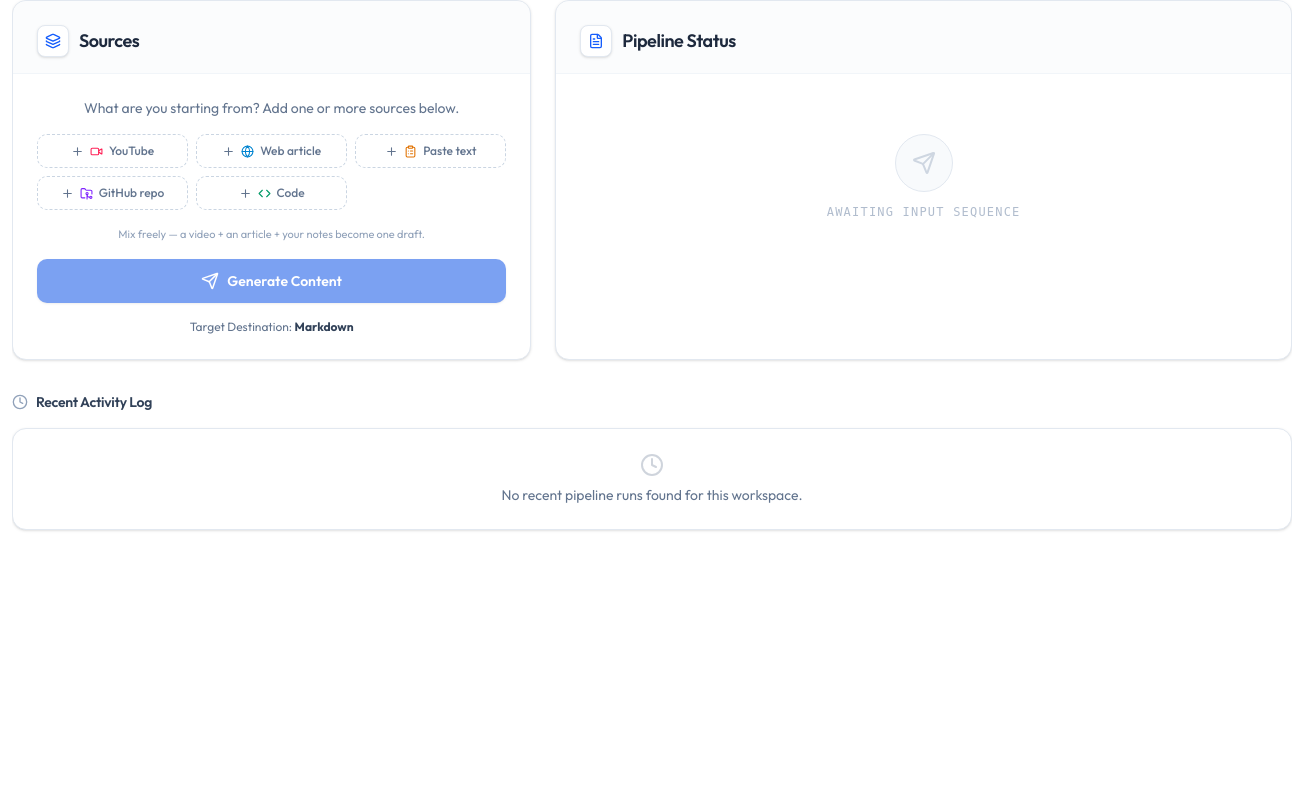
Scenario: PipelineTrigger (Source Composer) › resolves YouTube titles on blur and flags obvious URL typos
Click the button "YouTube" at (113, 151), box [37,134,188,168]
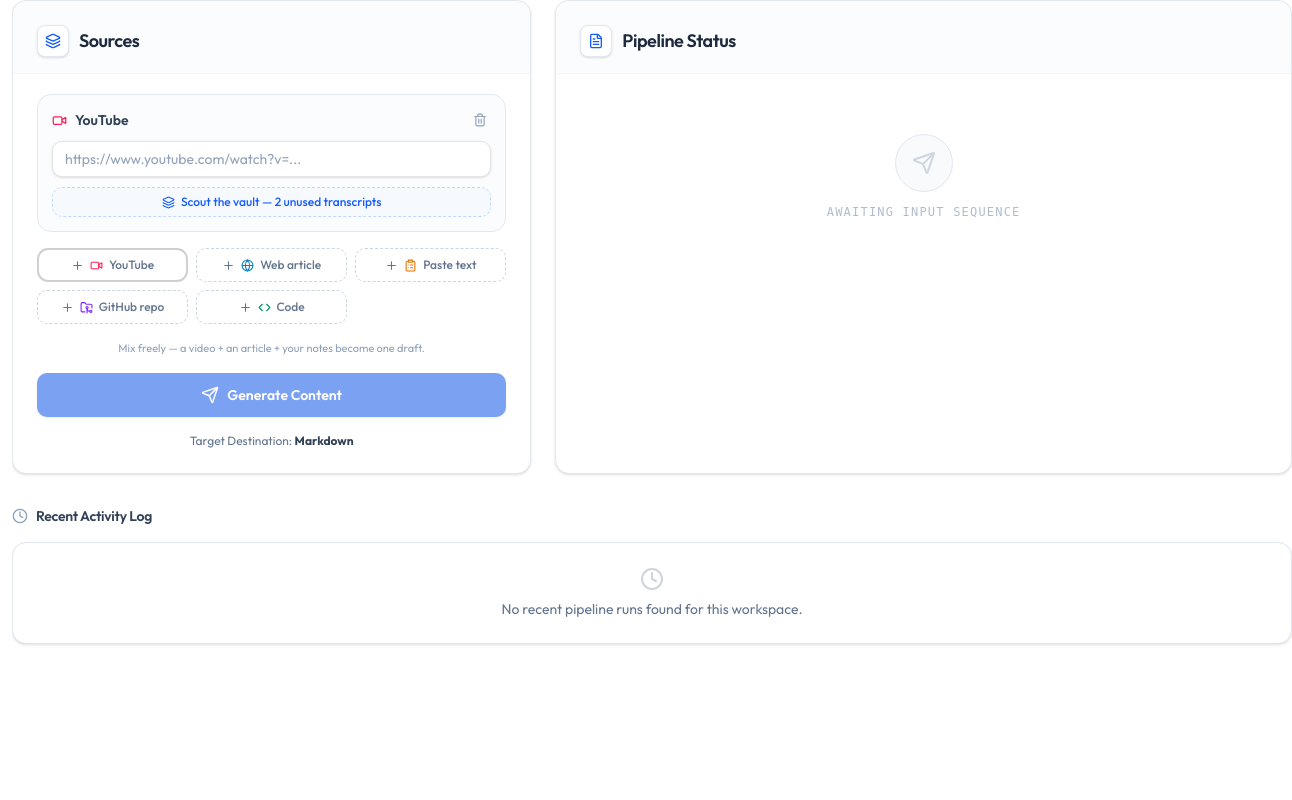
A wrong-host URL is flagged advisorily.
Type "https://vimeo.com/123" into the field with placeholder "https://www.youtube.com/watch?v=..." at (272, 159), box [52,141,491,177]
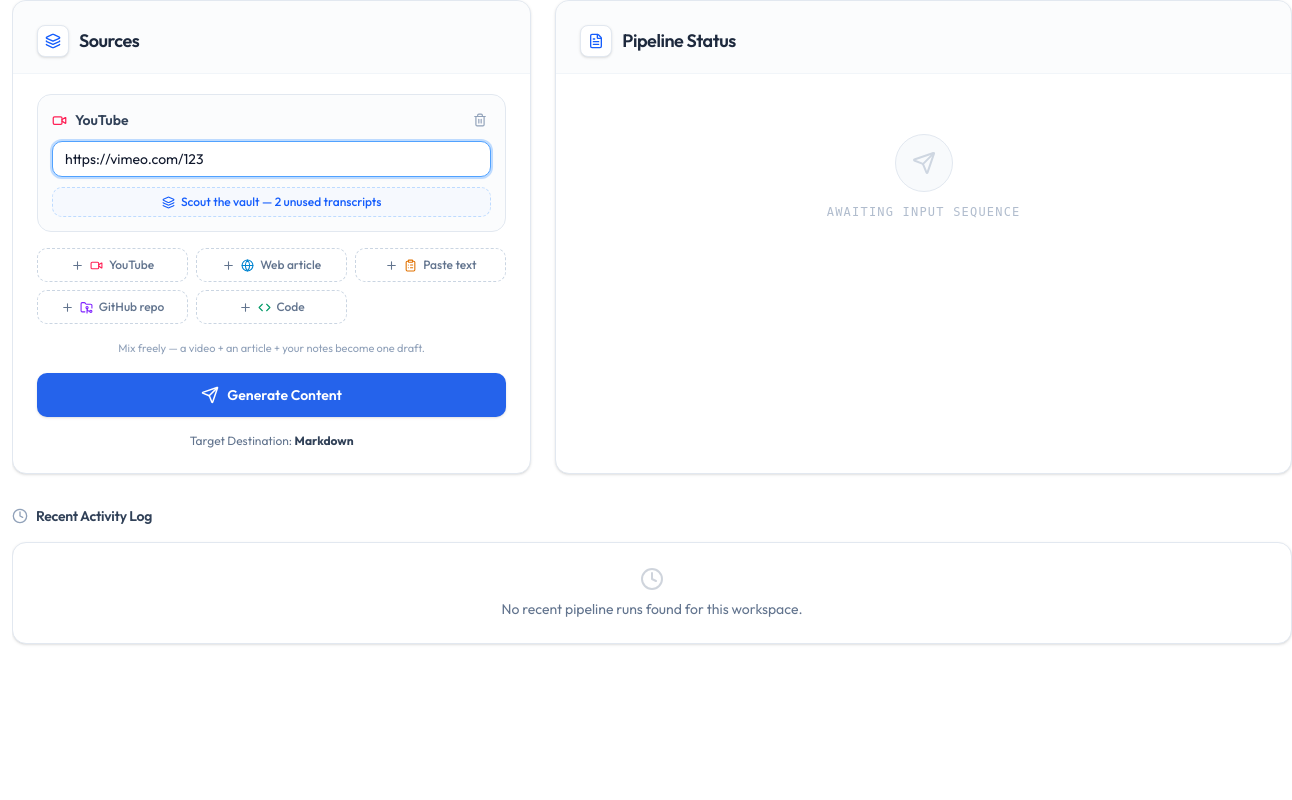
Press Tab
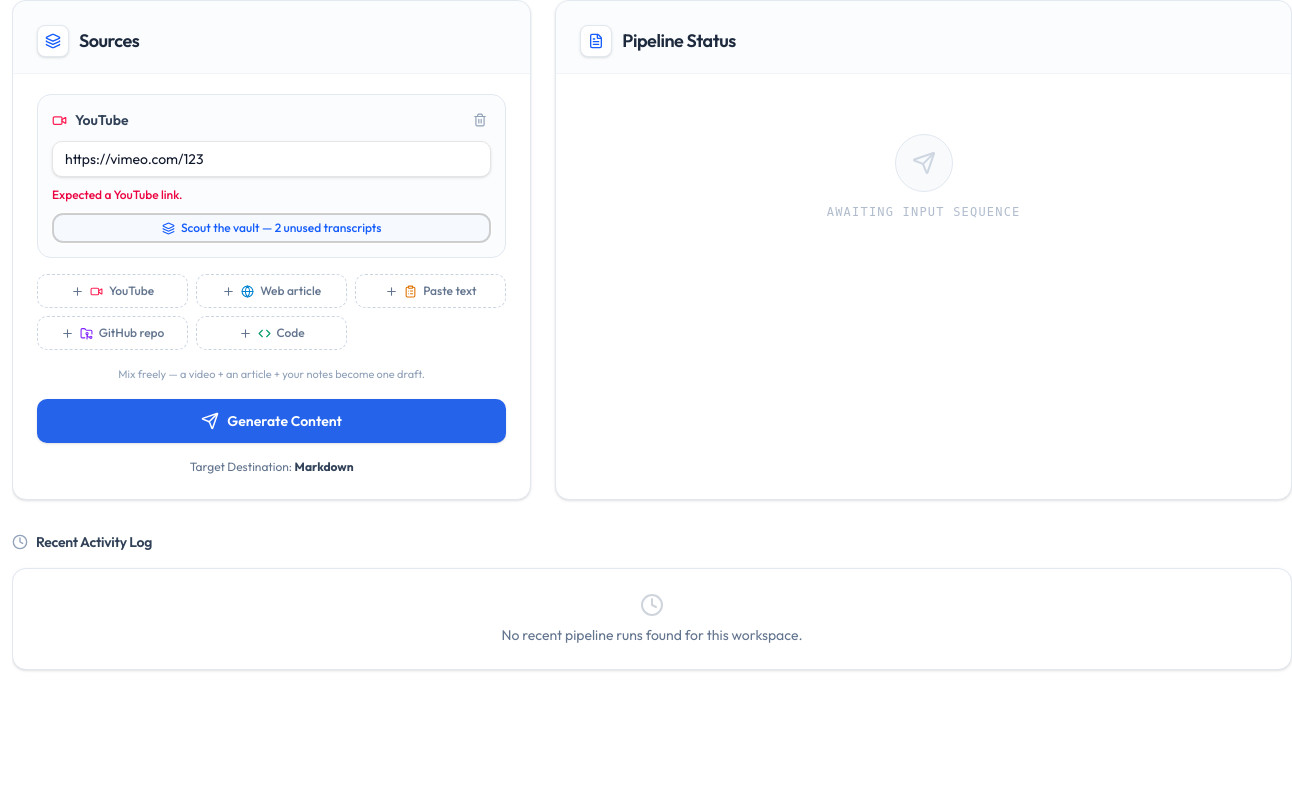
Now the text "Expected a YouTube link." is shown, box [52,187,183,202]
A real YouTube URL clears the error and resolves its title.
Replace the text in the field with placeholder "https://www.youtube.com/watch?v=..." with "https://youtu.be/abc123" at (272, 159), box [52,141,491,177]
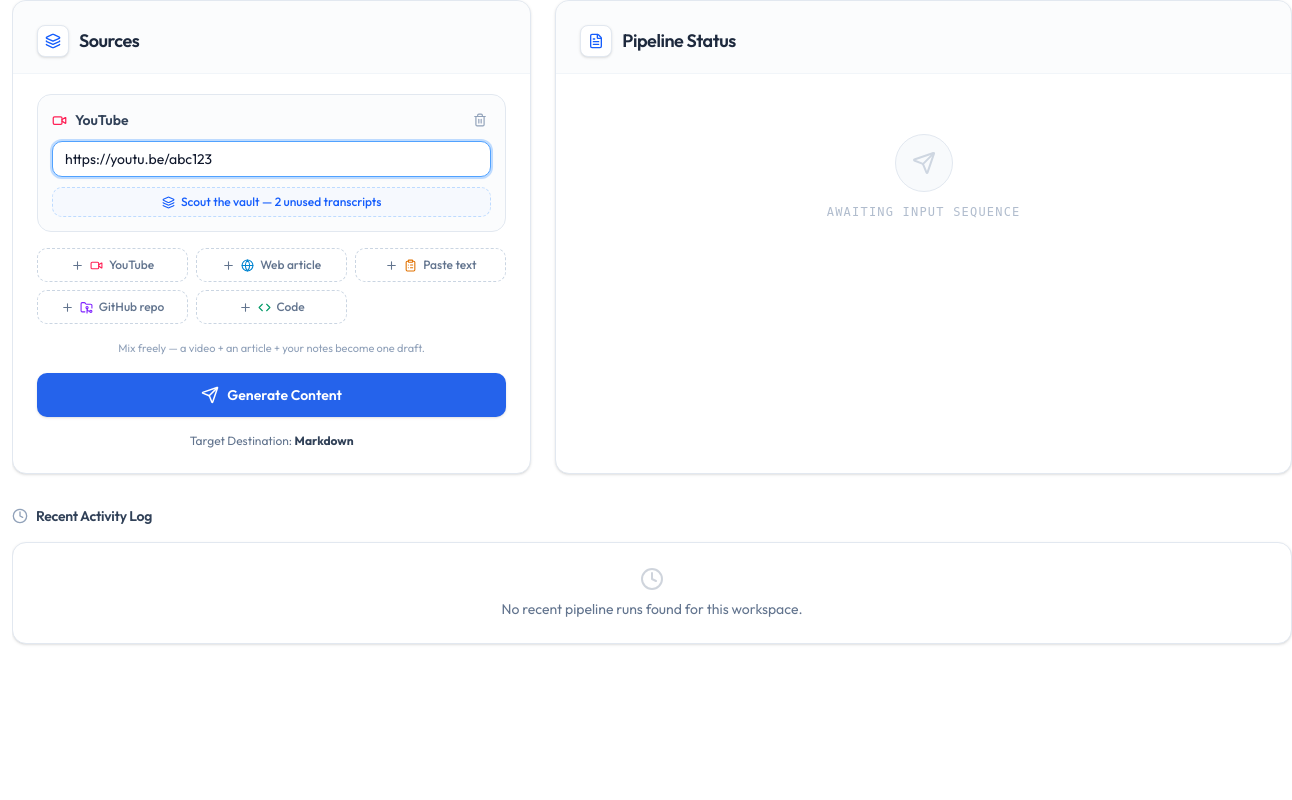
Press Tab
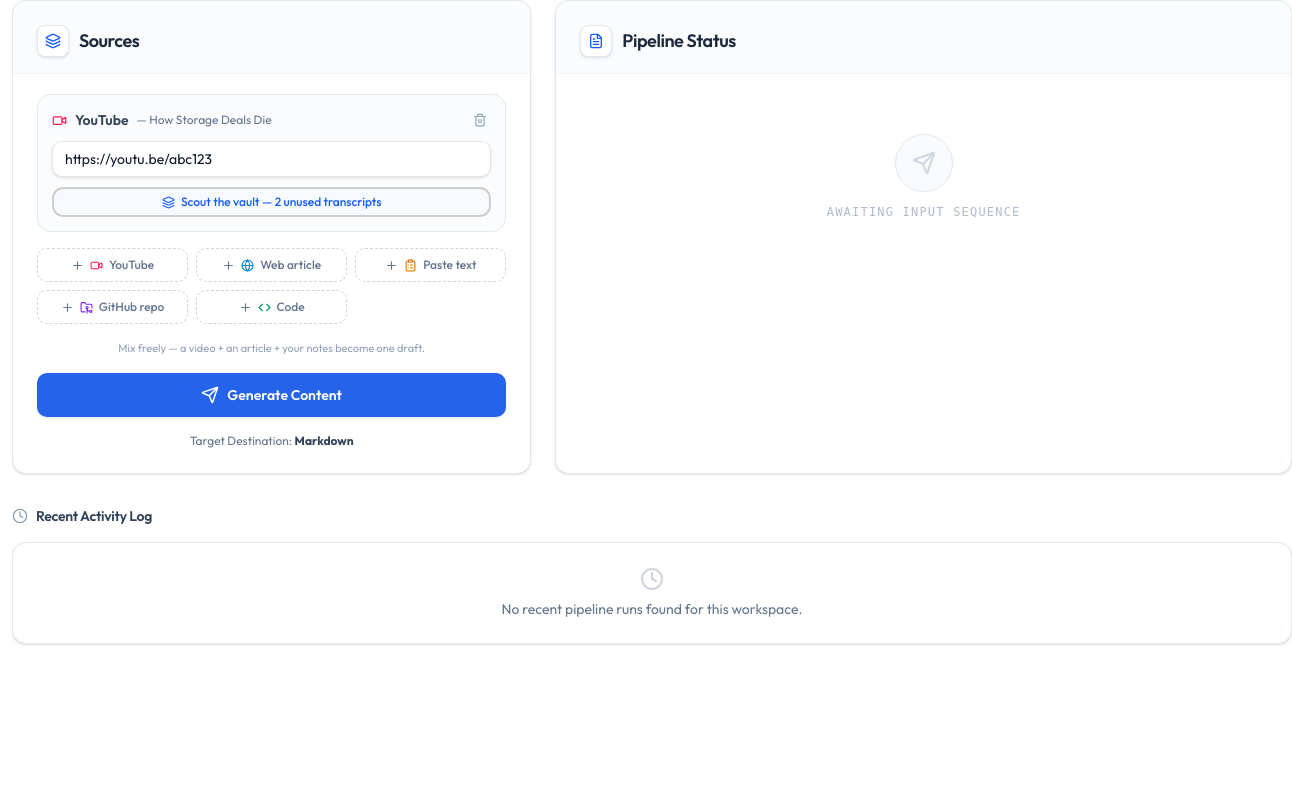
Expected: the text "Expected a YouTube link." is not shown
Now the text "— How Storage Deals Die" is shown, box [136,112,272,128]
